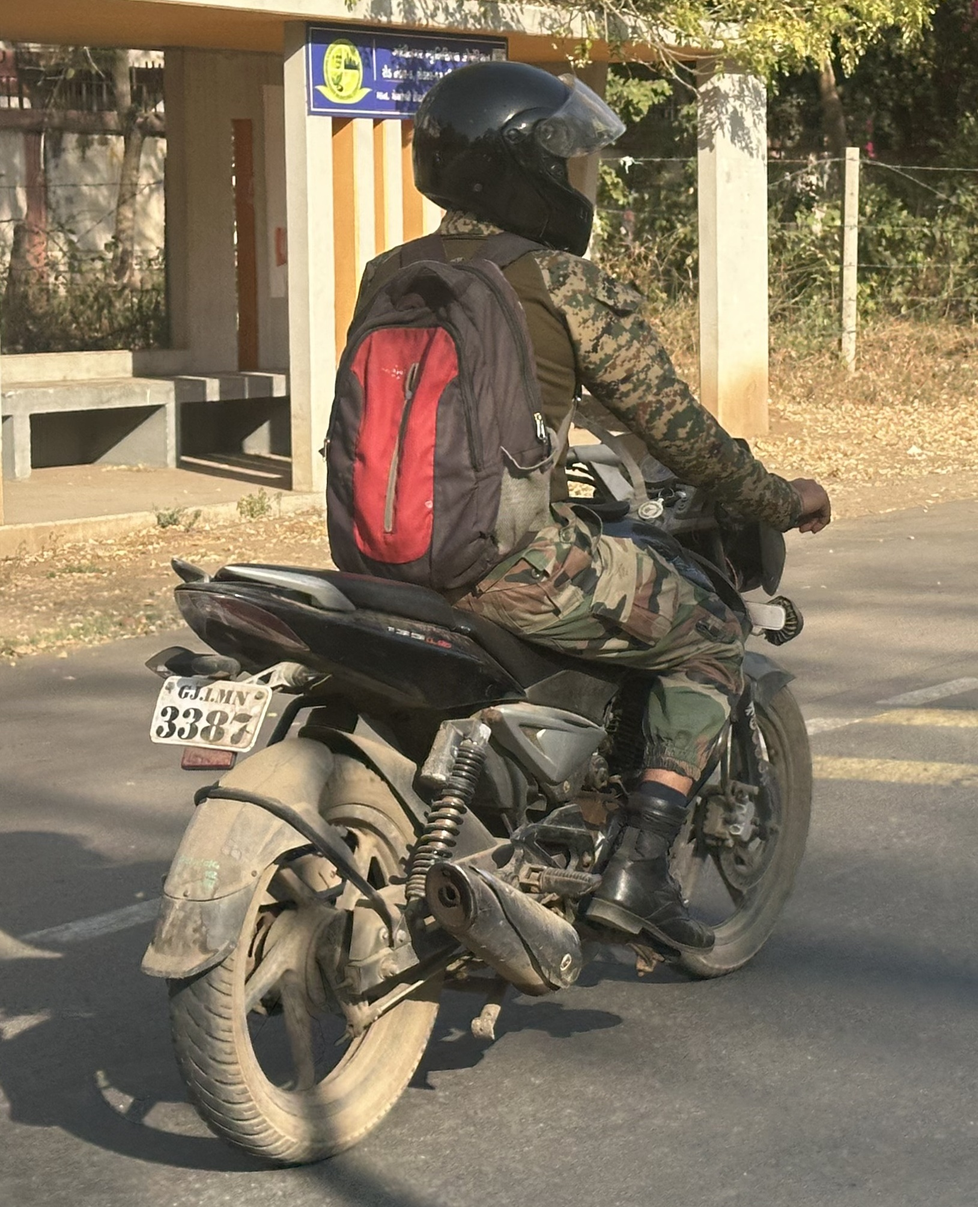BikeWithRider: (117, 49, 842, 1183)
Helmet: (393, 54, 637, 270)
